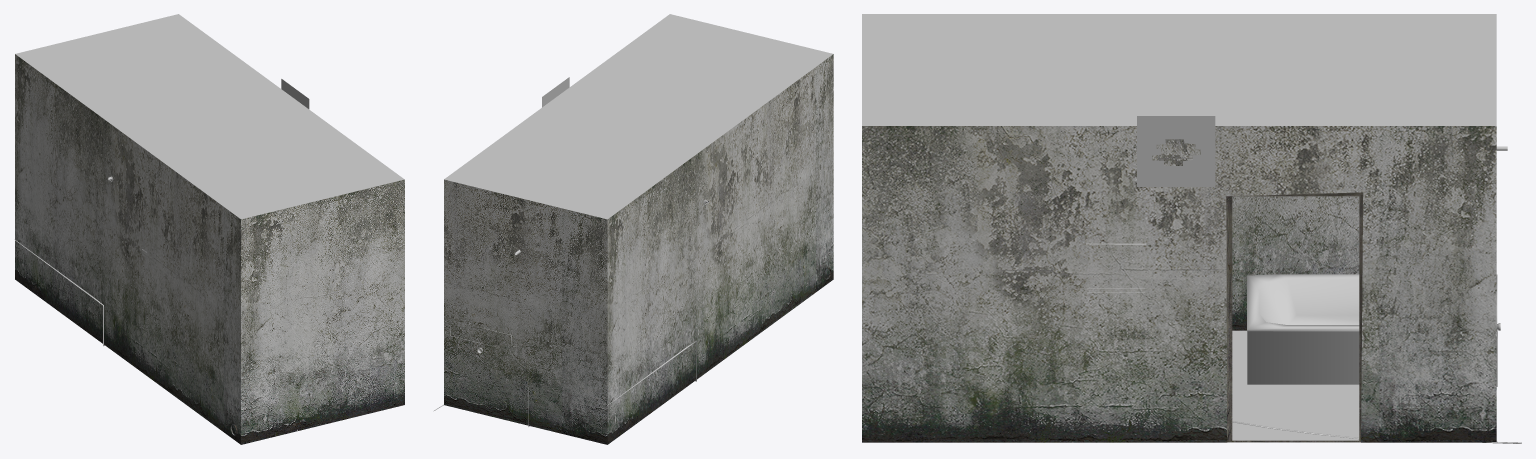
Rendered from Bathroom_Light.fbx.
The picture shows the model from 3 angles, left to right: view 1: azimuth 30°, elevation 25°; view 2: azimuth 150°, elevation 25°; view 3: azimuth 270°, elevation 25°; orthographic projection. The views are drawn at different scales.
Parts seen in each view (by area): view 1: Bathroom_Light; view 2: Bathroom_Light, Bath; view 3: Bathroom_Light, Bath.
Boxes of the visible parts, <box> form: Bathroom_Light: <box>15,14,404,444</box>; Bathroom_Light: <box>433,14,833,444</box>; Bath: <box>445,199,708,426</box>; Bathroom_Light: <box>862,14,1521,443</box>; Bath: <box>1247,146,1507,386</box>.
Size of the model in its own units: 234 by 289 by 523.
